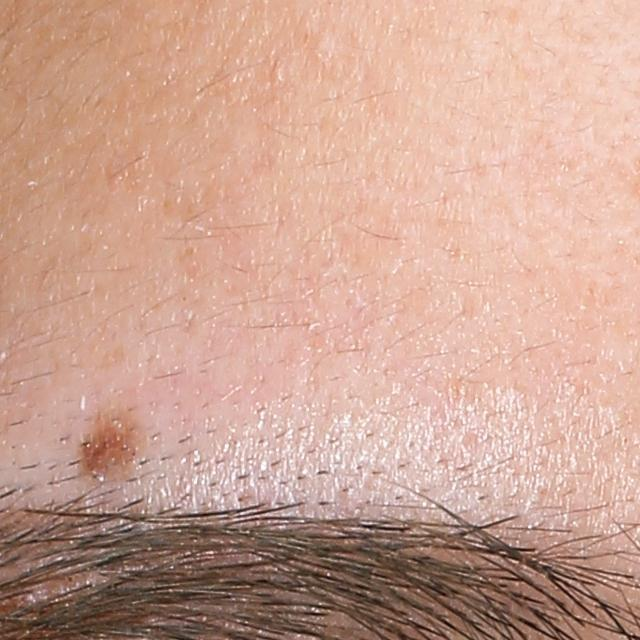comedo: (270, 66, 285, 82)
nevus: (72, 413, 146, 479)
